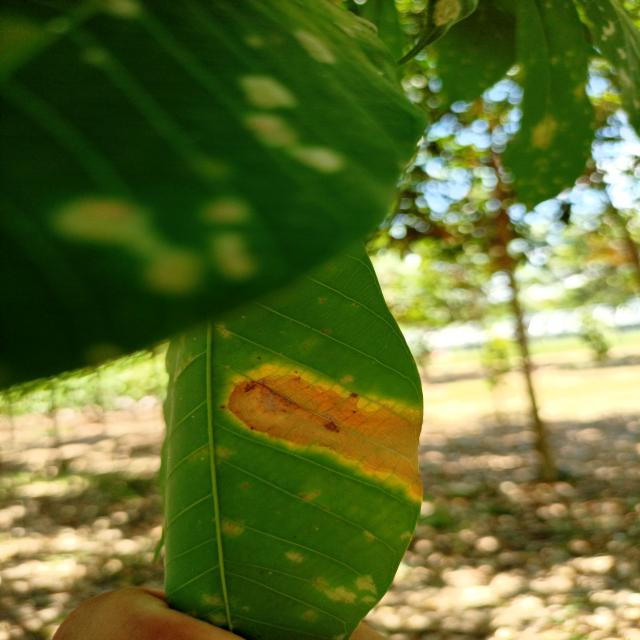Leaf-Blight: (227, 373, 424, 498)
